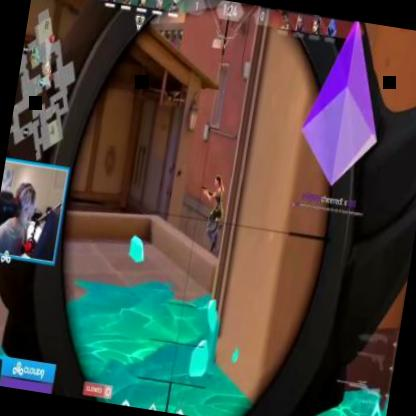enemy: (194, 172, 228, 252)
enemy_head: (213, 174, 221, 188)
